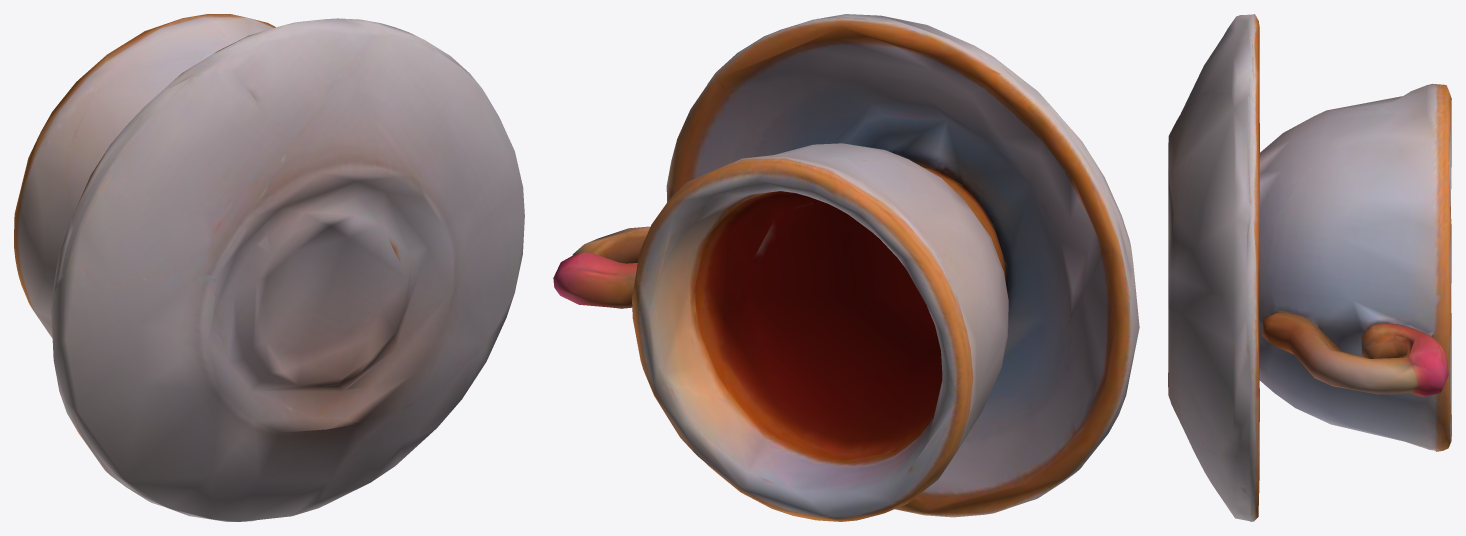
The picture shows the model from 3 angles, left to right: view 1: azimuth 30°, elevation 25°; view 2: azimuth 150°, elevation 25°; view 3: azimuth 270°, elevation 25°; orthographic projection. The views are drawn at different scales.
Visible parts, largest first — view 1: material; view 2: material; view 3: material.
Boxes of the visible parts, left/top/right/bottom form: material: left=14, top=14, right=524, bottom=521; material: left=553, top=14, right=1139, bottom=521; material: left=1168, top=14, right=1451, bottom=521.
Bounding box in the file's own units: 1 × 0.9618 × 0.5371.
1 material, 1 textured.
